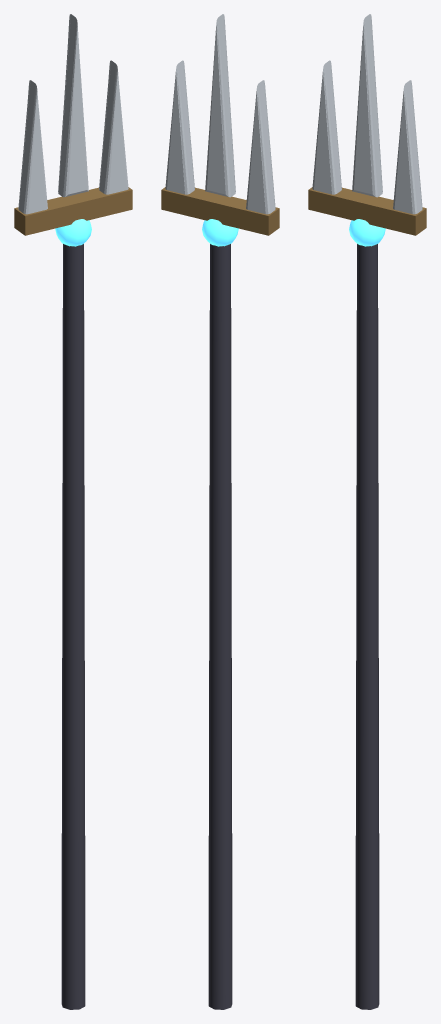
File: spear_f2_651cd2ad.glb
The picture shows the model from 3 angles, left to right: view 1: azimuth 30°, elevation 25°; view 2: azimuth 150°, elevation 25°; view 3: azimuth 330°, elevation 25°; orthographic projection.
Visible parts, largest first — view 1: m0_ow80_, m3_ow80_, m1_ow80_, m2_gm160_; view 2: m0_ow80_, m3_ow80_, m1_ow80_, m2_gm160_; view 3: m0_ow80_, m3_ow80_, m1_ow80_, m2_gm160_.
Part boxes in pixels (box(x1,y1,x2,y2)): m0_ow80_: box(61, 244, 85, 1009); m3_ow80_: box(18, 14, 128, 214); m1_ow80_: box(14, 187, 132, 235); m2_gm160_: box(55, 219, 91, 246); m0_ow80_: box(208, 244, 232, 1009); m3_ow80_: box(165, 14, 275, 214); m1_ow80_: box(161, 187, 279, 235); m2_gm160_: box(202, 219, 238, 246); m0_ow80_: box(355, 244, 379, 1009); m3_ow80_: box(312, 14, 422, 214); m1_ow80_: box(308, 187, 426, 235); m2_gm160_: box(349, 219, 385, 246).
Bounding box in the file's own units: 0.4 × 3.52 × 0.1141.
